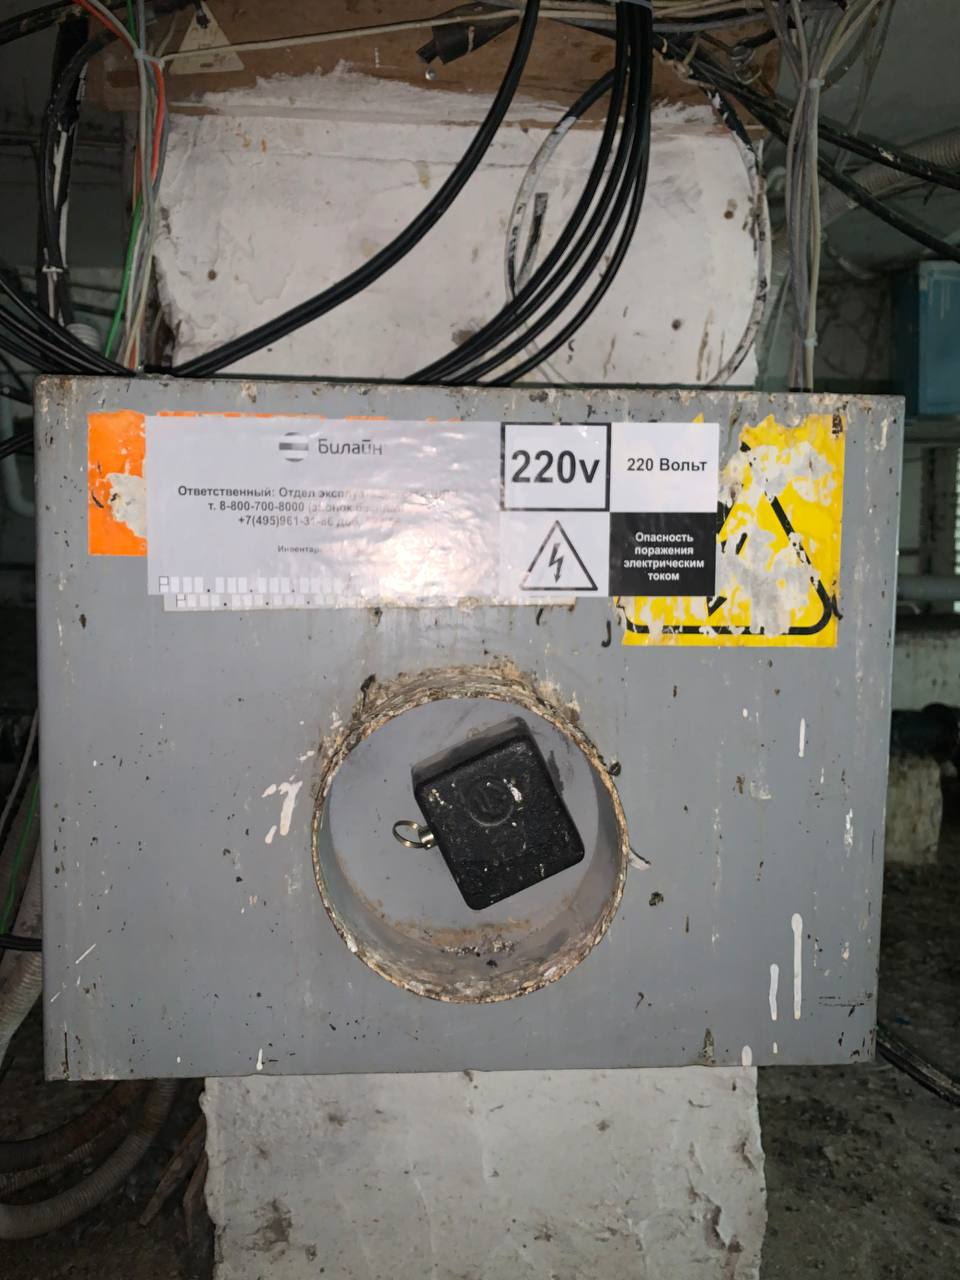shta-3: (30, 368, 908, 1090)
